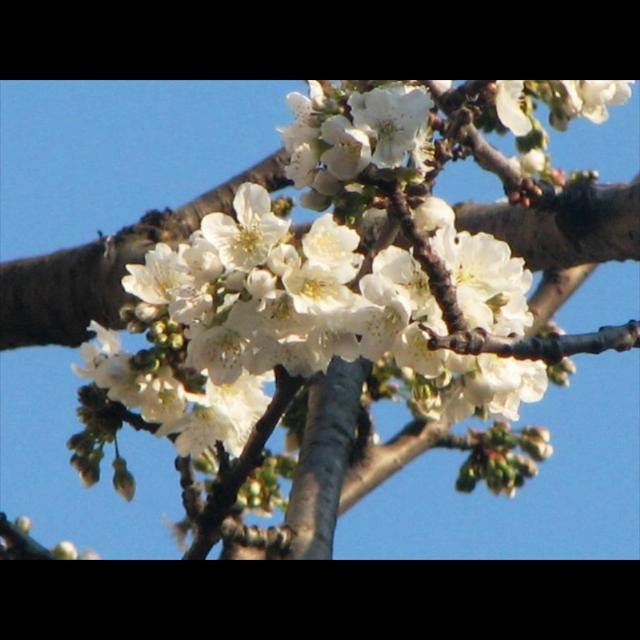Flower: (61, 196, 552, 506), (279, 80, 441, 202), (200, 183, 292, 273), (282, 258, 354, 316), (566, 80, 634, 124), (493, 80, 532, 138), (504, 148, 544, 172), (57, 539, 77, 559)
